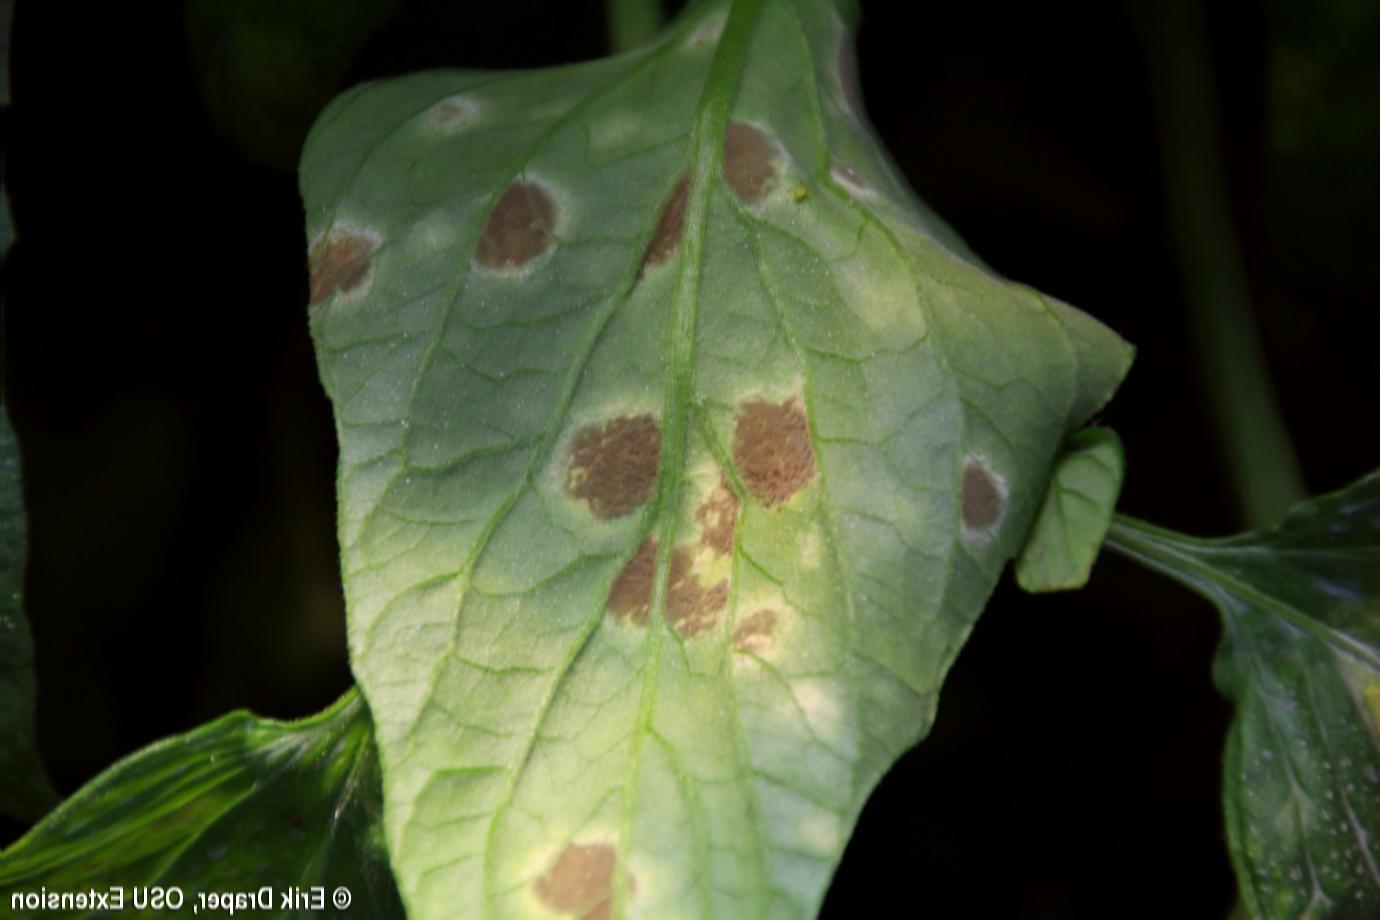Tomato mold leaf: (290, 29, 1122, 910)
